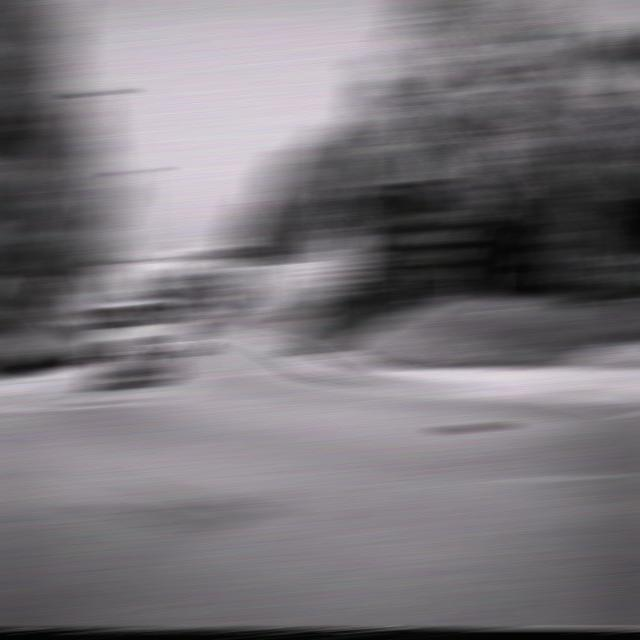speedLimit25: (327, 236, 359, 265)
